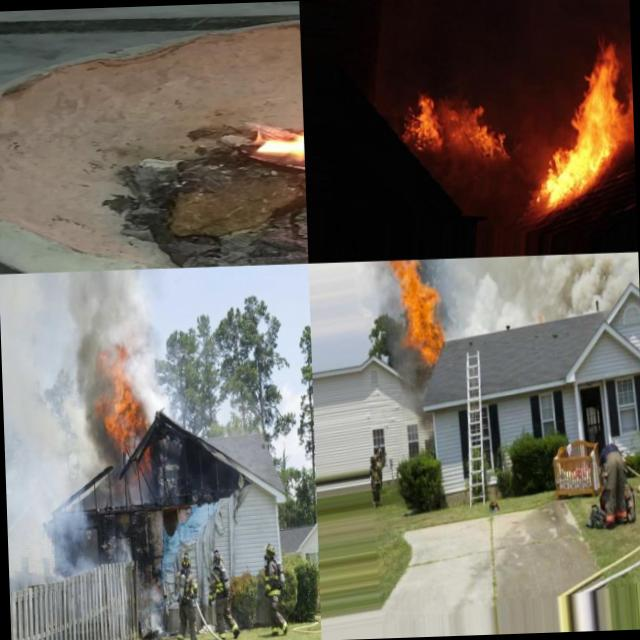fire: (534, 41, 624, 205), (234, 58, 307, 235), (404, 85, 513, 164), (406, 258, 444, 369), (104, 361, 148, 446), (618, 38, 634, 149), (388, 260, 407, 298)
smoke: (0, 272, 110, 567), (500, 254, 596, 318), (99, 270, 159, 362), (440, 257, 502, 334), (374, 298, 409, 370), (391, 369, 432, 418), (593, 251, 639, 283), (358, 260, 389, 300)
